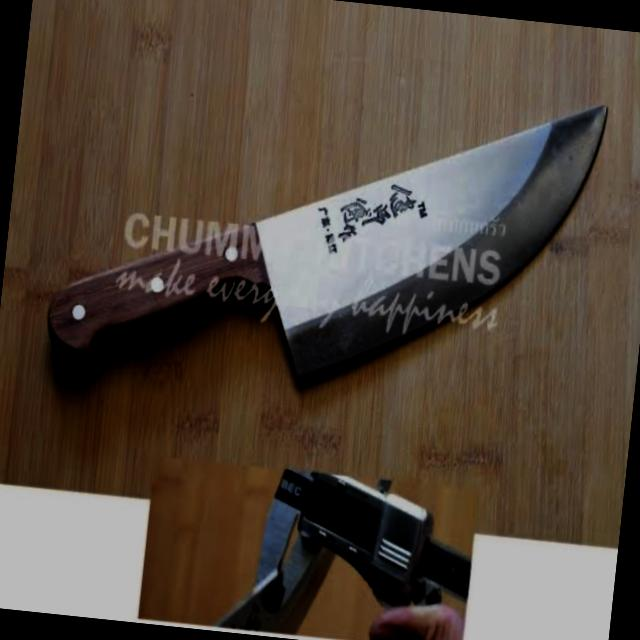knife: (29, 42, 614, 444)
